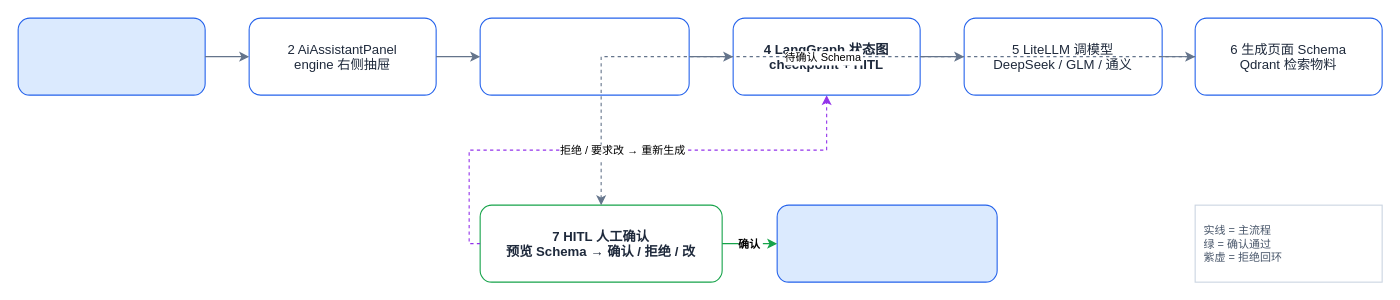
This 1400x300 diagram has some shape labels left out. The shapes that lost their labels are listed below. From the top down, each one's centre as x and y in pixels, then its label:
At (111,56): "1 运营输入需求 自然语言描述页面".
At (584,56): "3 FastAPI /ai/chat SSE 流式 + WS /ai/agent".
At (886,243): "8 确认 → 注入设计器画布 运营继续微调".
